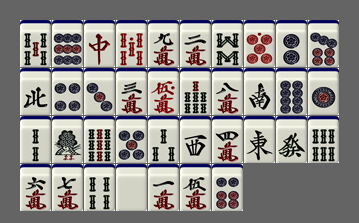0m: (148, 68, 179, 115)
0p: (244, 20, 275, 67)
0s: (116, 20, 147, 67)
1m: (148, 164, 179, 211)
1p: (308, 68, 339, 115)
1s: (52, 116, 83, 163)
1z: (244, 116, 275, 163)
2m: (180, 20, 211, 67)
2p: (276, 20, 307, 67)
2s: (20, 116, 51, 163)
2z: (244, 68, 275, 115)
3m: (116, 68, 147, 115)
3p: (84, 68, 115, 115)
3s: (148, 116, 179, 163)
3z: (180, 116, 211, 163)
4m: (212, 116, 243, 163)
4p: (52, 68, 83, 115)
4s: (84, 164, 115, 211)
4z: (20, 68, 51, 115)
5m: (180, 164, 211, 211)
5p: (116, 116, 147, 163)
5s: (20, 20, 51, 67)
5z: (116, 164, 147, 211)
6m: (20, 164, 51, 211)
6p: (212, 164, 243, 211)
6s: (308, 116, 339, 163)
6z: (276, 116, 307, 163)
7m: (52, 164, 83, 211)
7p: (308, 20, 339, 67)
7s: (180, 68, 211, 115)
7z: (84, 20, 115, 67)
8m: (212, 68, 243, 115)
8p: (276, 68, 307, 115)
8s: (212, 20, 243, 67)
9m: (148, 20, 179, 67)
9p: (52, 20, 83, 67)
9s: (84, 116, 115, 163)
